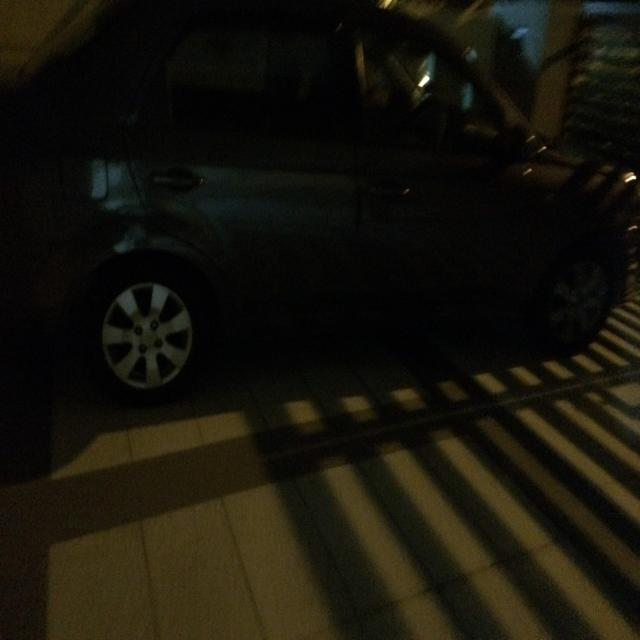Car: (19, 14, 640, 426)
